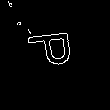P_E: (28, 34, 82, 76)
